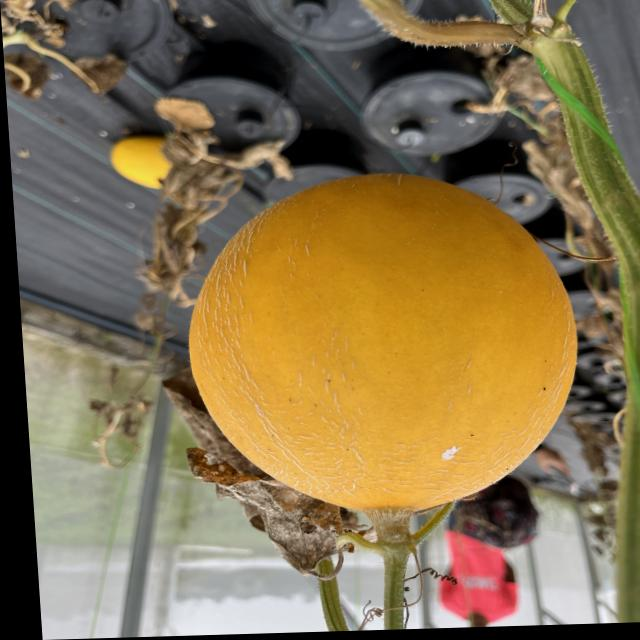bacterial wilt: (187, 448, 342, 580)
